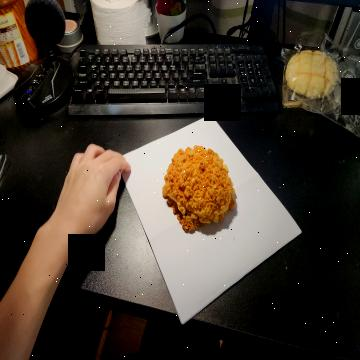soboru_bread: (162, 143, 236, 237)
